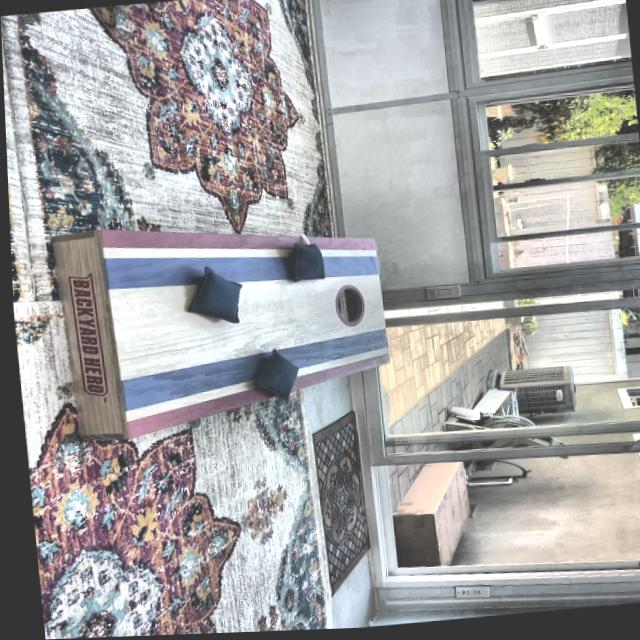blue-bean-bag: (181, 265, 243, 330), (249, 349, 299, 406), (285, 243, 325, 284)
board: (104, 236, 386, 398)
hole: (330, 285, 365, 330)
